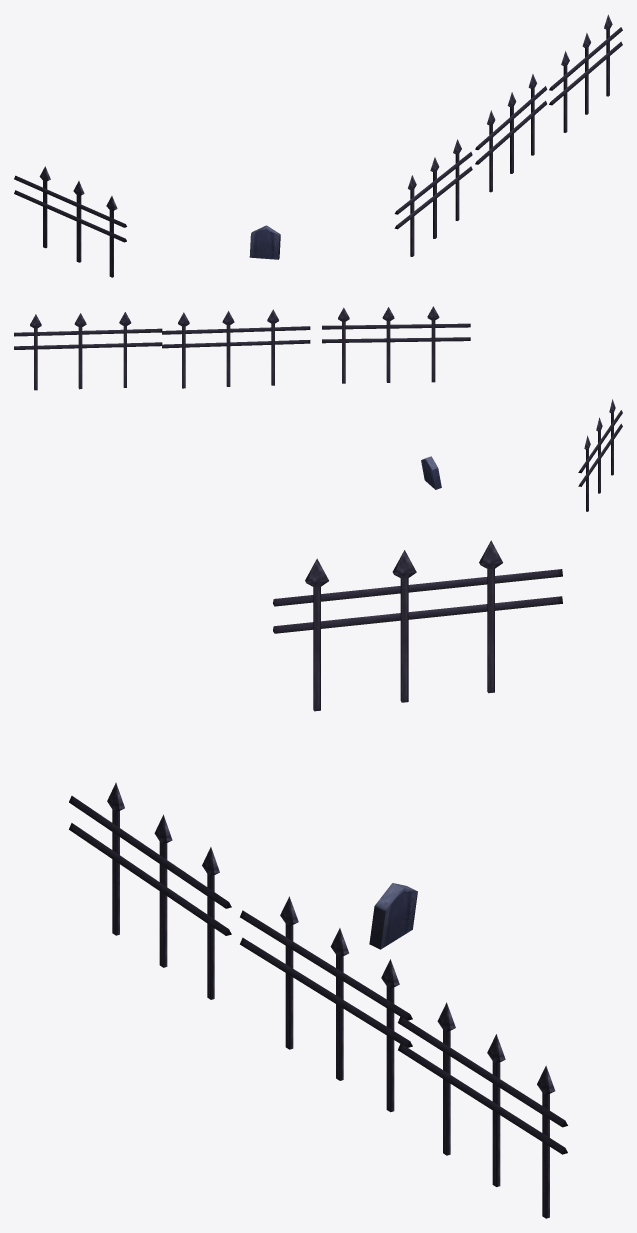
File: Area12_22.fbx
The picture shows the model from 3 angles, top to bottom: view 1: azimuth 30°, elevation 25°; view 2: azimuth 150°, elevation 25°; view 3: azimuth 270°, elevation 25°; orthographic projection. The views are drawn at different scales.
Visible parts, largest first — view 1: Area12_22; view 2: Area12_22; view 3: Area12_22.
Boxes of the visible parts, box(x1,y1,x2,y2) form: Area12_22: box(14, 14, 622, 277); Area12_22: box(14, 306, 622, 511); Area12_22: box(69, 540, 567, 1218).
Size of the model in its own units: 3380 by 636 by 1289.
